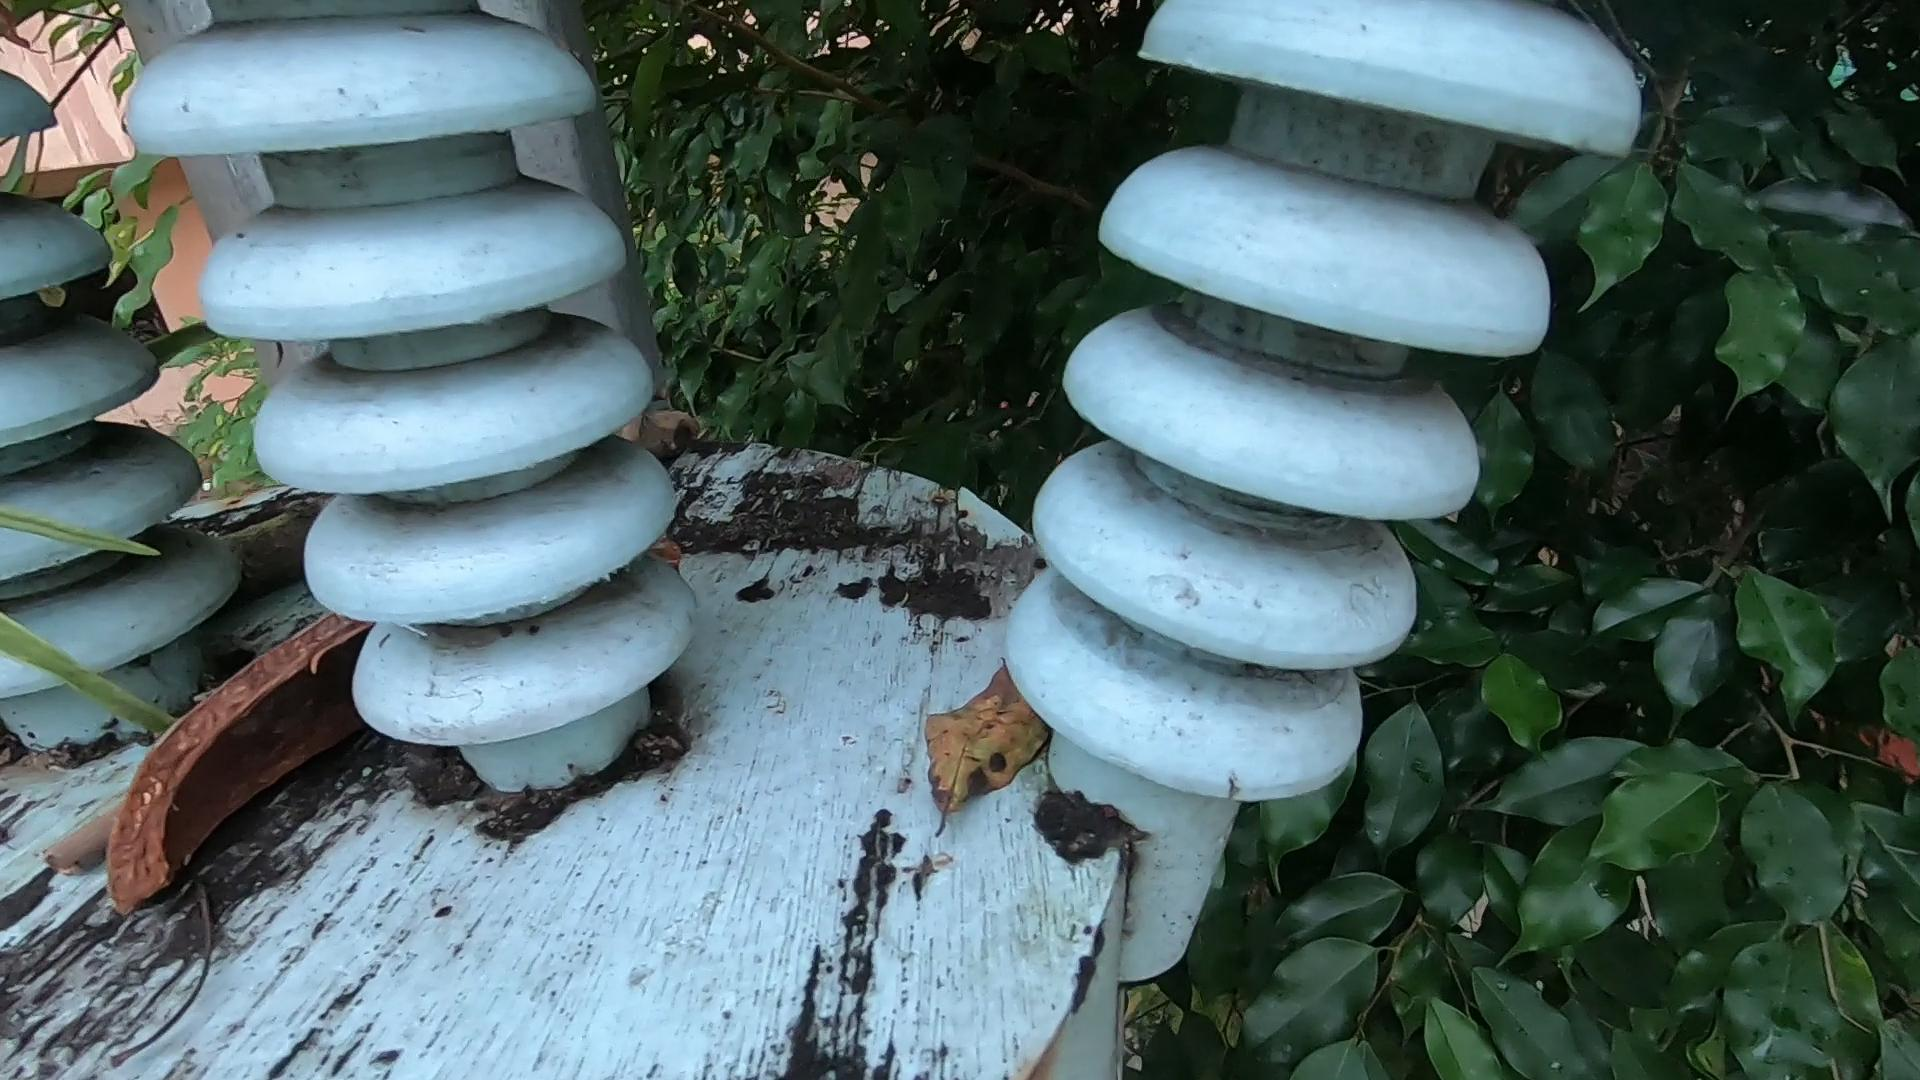leaf: (906, 622, 1101, 916), (624, 390, 703, 473)
mahogany fruit: (78, 563, 439, 942)
tree branch: (44, 800, 179, 923), (193, 509, 293, 651)
